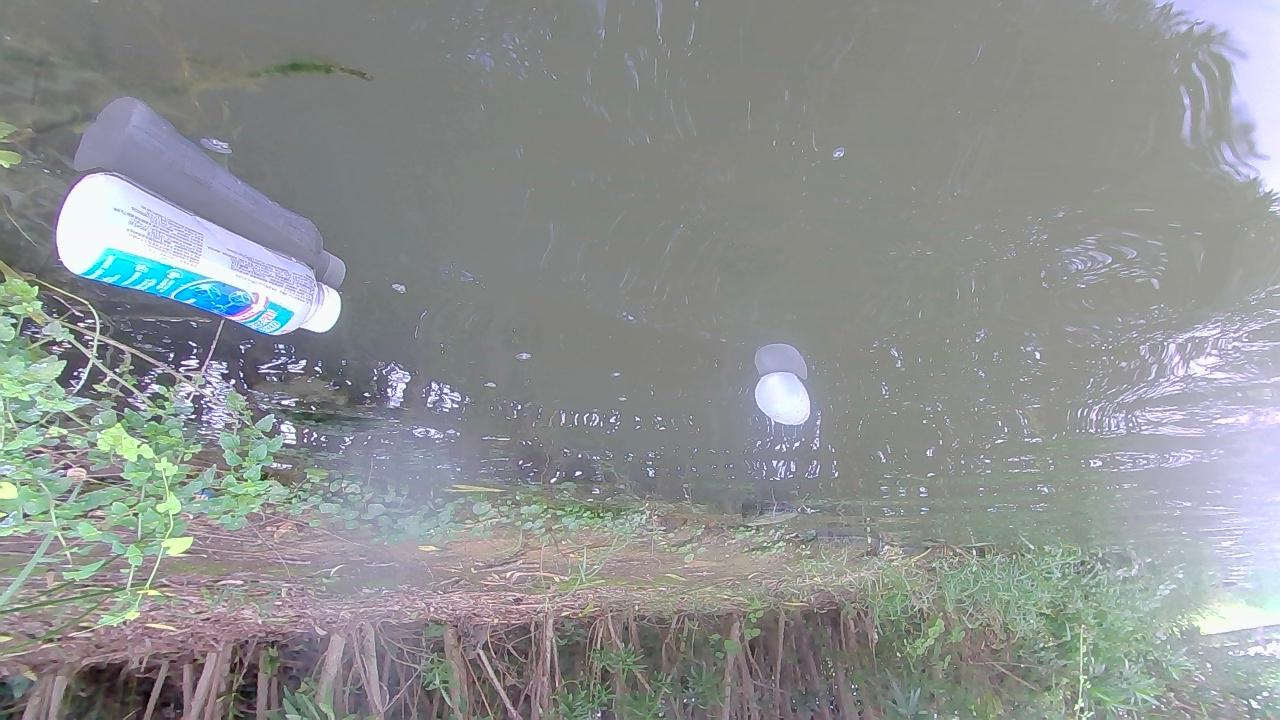Plastic: (54, 171, 344, 338), (753, 371, 813, 427)
